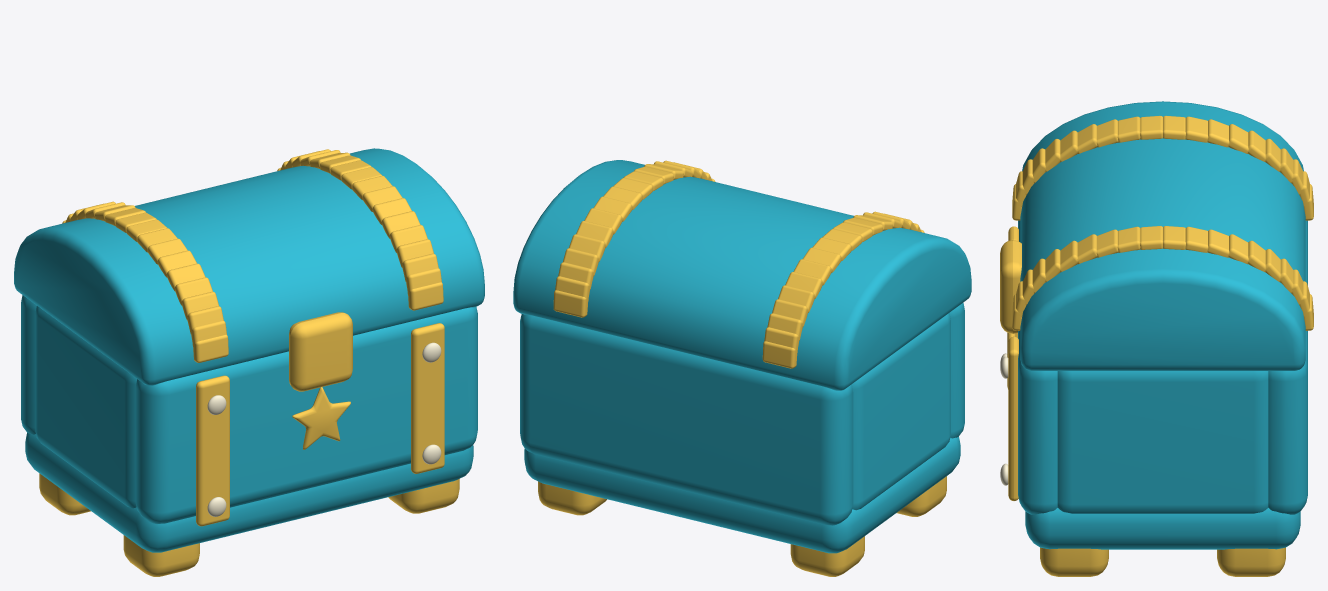
The model's file is treasure-chest-v2.glb.
The picture shows the model from 3 angles, left to right: view 1: azimuth 30°, elevation 25°; view 2: azimuth 150°, elevation 25°; view 3: azimuth 270°, elevation 25°; orthographic projection. The views are drawn at different scales.
Visible parts, largest first — view 1: Arched enamel lid, Front wall, Side wall, Chest floor, Brass clasp, Brass front strap.001, Brass front strap, Back wall, Soft brass foot, Compass seal, Soft brass foot.002, Soft brass foot.001 (+6 smaller); view 2: Arched enamel lid, Back wall, Side wall, Chest floor, Front wall, Soft brass foot.001, Soft brass foot.003, Soft brass foot, Domed brass strap, Domed brass strap.020; view 3: Arched enamel lid, Side wall.001, Chest floor, Back wall, Front wall, Soft brass foot.002, Soft brass foot.003, Brass front strap.001, Brass clasp, Domed brass strap.008, Domed brass strap.009, Domed brass strap.010 (+21 smaller).
Boxes of the visible parts, left/top/right/bottom form: Arched enamel lid: left=14, top=148, right=484, bottom=385; Front wall: left=135, top=307, right=477, bottom=523; Side wall: left=35, top=306, right=137, bottom=508; Chest floor: left=25, top=432, right=473, bottom=552; Brass clasp: left=289, top=312, right=352, bottom=391; Brass front strap.001: left=411, top=323, right=444, bottom=473; Brass front strap: left=196, top=375, right=229, bottom=526; Back wall: left=21, top=295, right=36, bottom=434; Soft brass foot: left=123, top=535, right=199, bottom=576; Compass seal: left=292, top=387, right=350, bottom=449; Soft brass foot.002: left=388, top=479, right=459, bottom=513; Soft brass foot.001: left=39, top=473, right=90, bottom=515; Arched enamel lid: left=513, top=160, right=971, bottom=390; Back wall: left=520, top=314, right=853, bottom=525; Side wall: left=852, top=313, right=950, bottom=510; Chest floor: left=524, top=436, right=960, bottom=553; Front wall: left=949, top=303, right=964, bottom=438; Soft brass foot.001: left=790, top=536, right=864, bottom=576; Soft brass foot.003: left=538, top=481, right=606, bottom=515; Soft brass foot: left=897, top=476, right=946, bottom=516; Domed brass strap: left=762, top=341, right=797, bottom=368; Domed brass strap.020: left=553, top=290, right=587, bottom=317; Arched enamel lid: left=1020, top=101, right=1305, bottom=370; Side wall.001: left=1057, top=371, right=1268, bottom=513; Chest floor: left=1025, top=508, right=1300, bottom=549; Back wall: left=1268, top=220, right=1307, bottom=514; Front wall: left=1018, top=220, right=1057, bottom=514; Soft brass foot.002: left=1040, top=547, right=1108, bottom=576; Soft brass foot.003: left=1217, top=547, right=1285, bottom=576; Brass front strap.001: left=1008, top=336, right=1018, bottom=500; Brass clasp: left=1000, top=240, right=1021, bottom=333; Domed brass strap.008: left=1185, top=116, right=1208, bottom=142; Domed brass strap.009: left=1163, top=115, right=1185, bottom=139; Domed brass strap.010: left=1140, top=115, right=1162, bottom=139.
Size of the model in its own units: 1.69 by 2.21 by 1.28.
